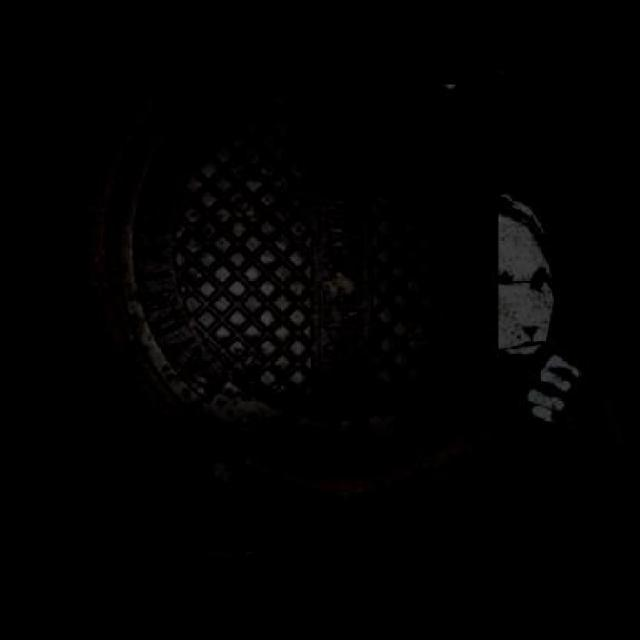Manhole: (109, 84, 498, 418)
